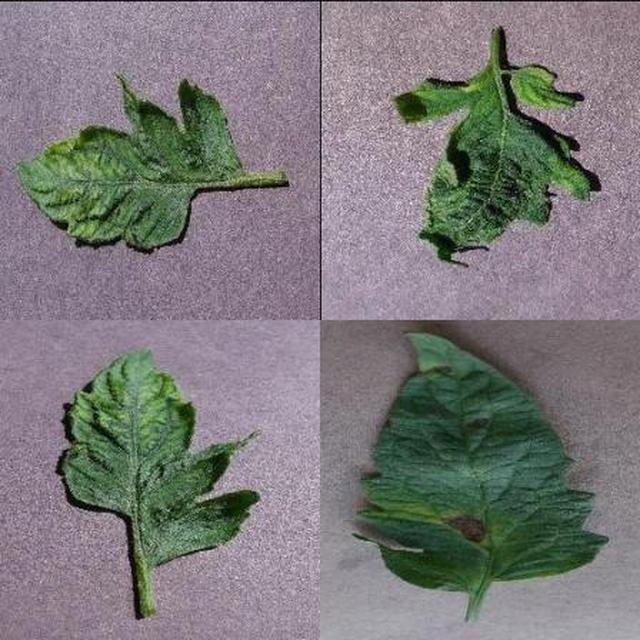Mosaic Virus Leaf: (184, 231, 640, 640)
